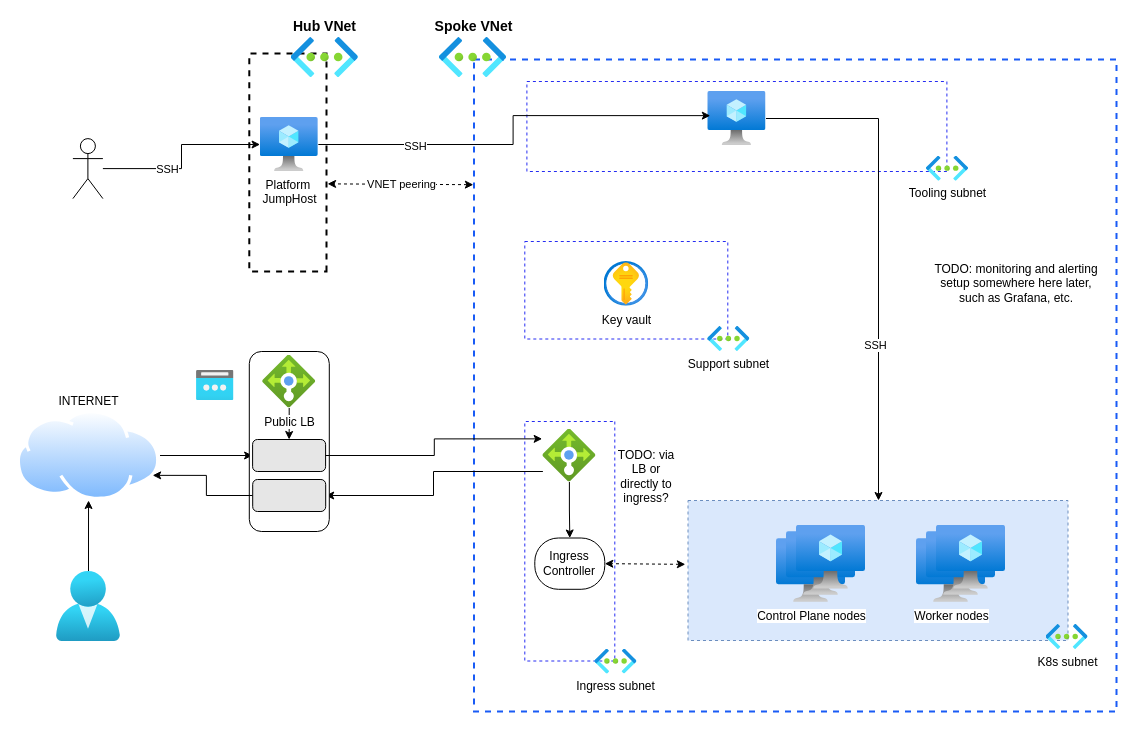
Image size: 1135x729. Some labels were removed from this diagram. The centre of each missing label's shape, as x and y in pixels:
"ADMINS" goes at [87,168].
"INBOUD" goes at [289,455].
"K8s Internal LB" goes at [568,455].
"LB Public IP" goes at [215,385].
"mgmt-vm" goes at [736,118].
"OUTBOUND" goes at [289,495].
"USERS" goes at [88,606].
